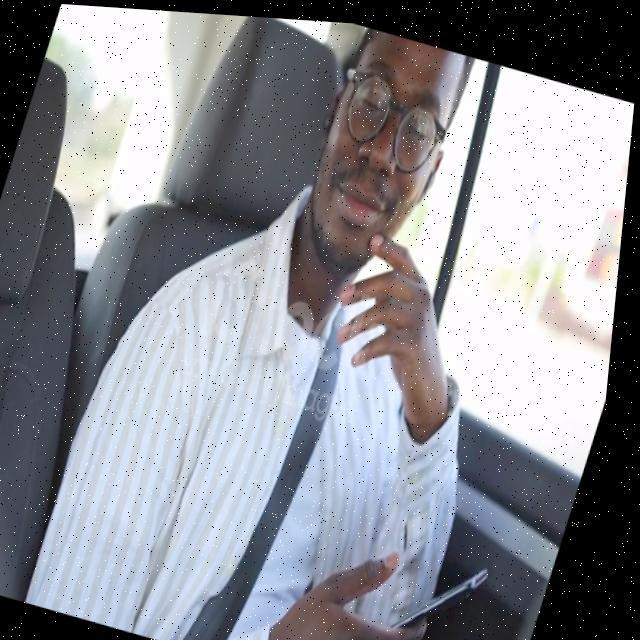PhoneCall: (390, 532, 505, 640)
